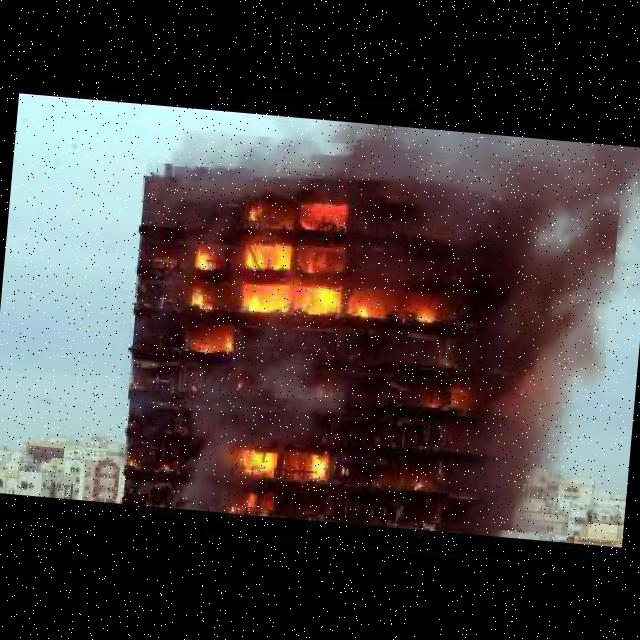fire: (78, 123, 622, 537)
